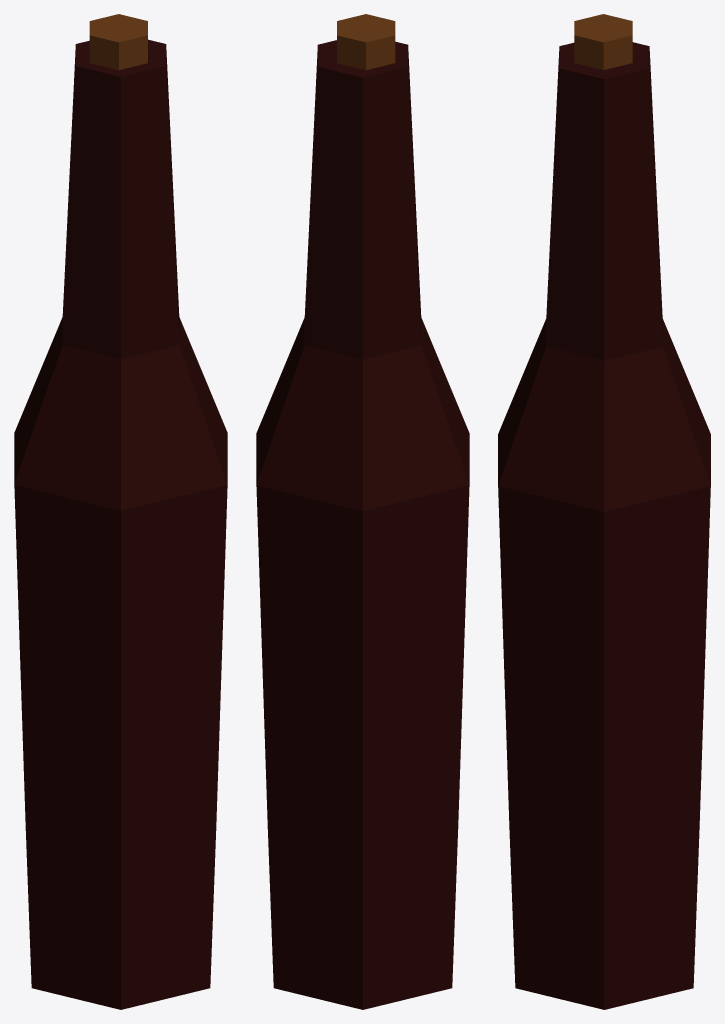
File: Bottle03.fbx
The picture shows the model from 3 angles, left to right: view 1: azimuth 30°, elevation 25°; view 2: azimuth 150°, elevation 25°; view 3: azimuth 270°, elevation 25°; orthographic projection.
Visible parts, largest first — view 1: Cylinder001; view 2: Cylinder001; view 3: Cylinder001.
Part boxes in pixels (<box>): Cylinder001: <box>14,14,227,1009</box>; Cylinder001: <box>256,14,469,1009</box>; Cylinder001: <box>498,14,710,1009</box>.
Size of the model in its own units: 8.27 by 34.8 by 7.16.
